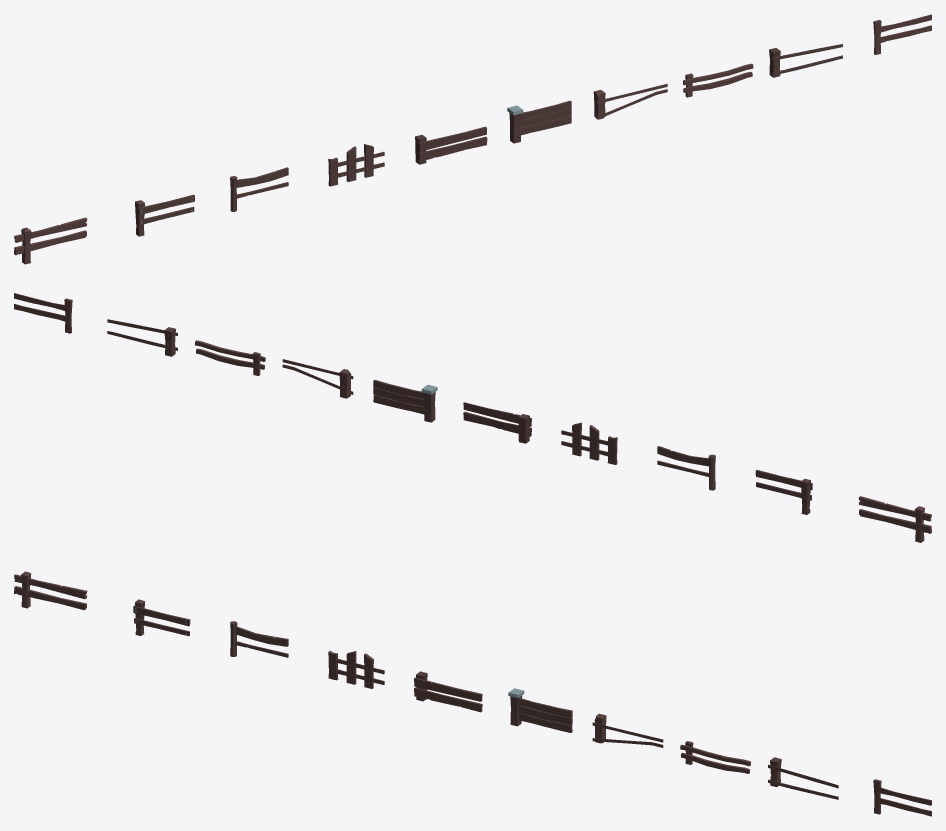
File: Fence_SplitOneSide.fbx
3 renders of one model, top to bottom at view 1: azimuth 30°, elevation 25°; view 2: azimuth 150°, elevation 25°; view 3: azimuth 330°, elevation 25°, orthographic.
Parts seen in each view (by area): view 1: fence.005, fence.004, fence, fence.003, fence.001, fence.007, fence.002, fence.009, fence.008, fence.006; view 2: fence.005, fence, fence.004, fence.003, fence.007, fence.001, fence.002, fence.009, fence.008, fence.006; view 3: fence.005, fence.004, fence, fence.003, fence.001, fence.007, fence.002, fence.009, fence.008, fence.006.
Boxes of the visible parts, left/top/right/bottom form: fence.005: left=507, top=100, right=571, bottom=143; fence.004: left=415, top=126, right=487, bottom=164; fence: left=14, top=217, right=87, bottom=264; fence.003: left=328, top=144, right=384, bottom=186; fence.001: left=135, top=194, right=194, bottom=236; fence.007: left=683, top=63, right=753, bottom=97; fence.002: left=230, top=167, right=288, bottom=211; fence.009: left=873, top=14, right=931, bottom=54; fence.008: left=769, top=44, right=842, bottom=77; fence.006: left=593, top=83, right=667, bottom=119; fence.005: left=373, top=380, right=437, bottom=422; fence: left=858, top=496, right=931, bottom=542; fence.004: left=463, top=402, right=531, bottom=443; fence.003: left=561, top=422, right=617, bottom=464; fence.007: left=195, top=340, right=265, bottom=375; fence.001: left=755, top=470, right=812, bottom=514; fence.002: left=657, top=446, right=715, bottom=490; fence.009: left=14, top=293, right=72, bottom=333; fence.008: left=107, top=319, right=177, bottom=356; fence.006: left=282, top=359, right=353, bottom=398; fence.005: left=508, top=688, right=572, bottom=732; fence.004: left=414, top=671, right=482, bottom=712; fence: left=14, top=571, right=87, bottom=610; fence.003: left=328, top=650, right=384, bottom=688; fence.001: left=133, top=599, right=190, bottom=636; fence.007: left=680, top=741, right=750, bottom=773; fence.002: left=230, top=621, right=288, bottom=657; fence.009: left=873, top=779, right=931, bottom=816; fence.008: left=768, top=757, right=838, bottom=799; fence.006: left=592, top=713, right=663, bottom=747.
Bounding box in the file's own units: 5642 × 208 × 70.49.
